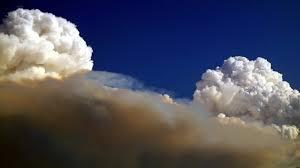yanwu: (187, 54, 299, 140), (1, 6, 94, 82)
